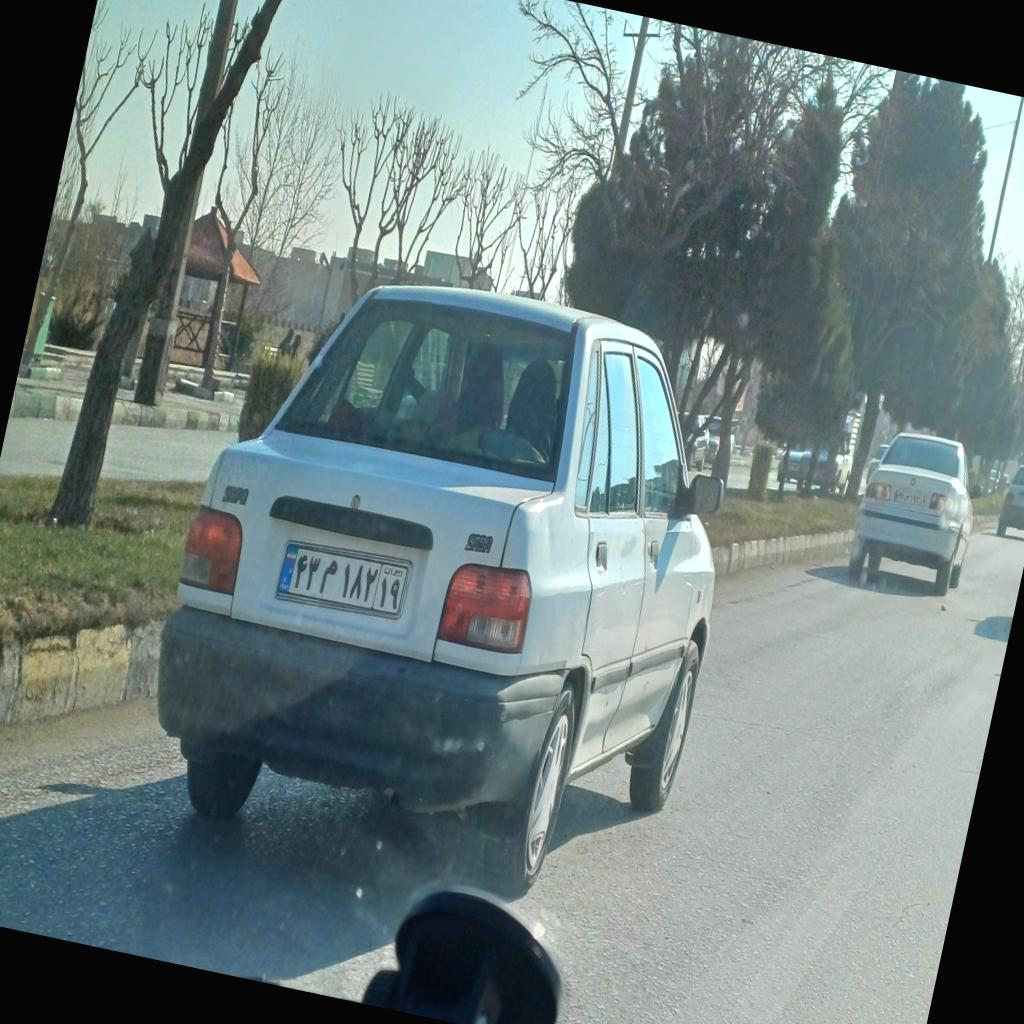Plates: (275, 534, 412, 624)
